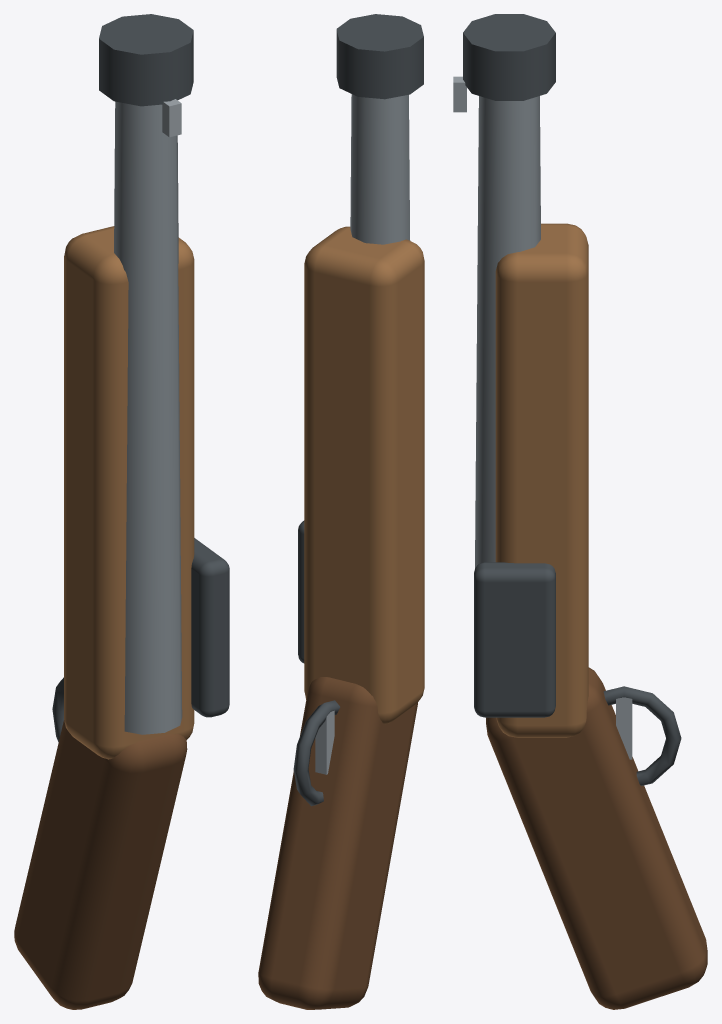
Rendered from pistol.glb.
3 renders of one model, left to right at view 1: azimuth 30°, elevation 25°; view 2: azimuth 150°, elevation 25°; view 3: azimuth 270°, elevation 25°, orthographic. The views are drawn at different scales.
Visible parts, largest first — view 1: pistol-forestock, pistol-barrel, pistol-stock, pistol-muzzle-ring, pistol-lock, pistol-sight, pistol-trigger-guard; view 2: pistol-forestock, pistol-stock, pistol-barrel, pistol-muzzle-ring, pistol-trigger-guard, pistol-lock, pistol-trigger; view 3: pistol-forestock, pistol-stock, pistol-barrel, pistol-lock, pistol-muzzle-ring, pistol-trigger-guard, pistol-trigger.
Boxes of the visible parts, left/top/right/bottom form: pistol-forestock: left=64, top=226, right=194, bottom=759; pistol-barrel: left=114, top=101, right=182, bottom=734; pistol-stock: left=14, top=720, right=187, bottom=1009; pistol-muzzle-ring: left=99, top=14, right=193, bottom=106; pistol-lock: left=191, top=538, right=229, bottom=717; pistol-sight: left=162, top=99, right=181, bottom=137; pistol-trigger-guard: left=52, top=677, right=63, bottom=741; pistol-forestock: left=304, top=226, right=424, bottom=724; pistol-stock: left=258, top=677, right=417, bottom=1009; pistol-barrel: left=350, top=94, right=410, bottom=244; pistol-muzzle-ring: left=336, top=14, right=423, bottom=99; pistol-trigger-guard: left=293, top=700, right=340, bottom=806; pistol-lock: left=298, top=520, right=304, bottom=663; pistol-trigger: left=315, top=710, right=334, bottom=774; pistol-forestock: left=495, top=223, right=588, bottom=737; pistol-stock: left=486, top=667, right=707, bottom=1009; pistol-barrel: left=475, top=96, right=540, bottom=568; pistol-lock: left=474, top=562, right=555, bottom=717; pistol-muzzle-ring: left=463, top=14, right=555, bottom=100; pistol-trigger-guard: left=603, top=686, right=681, bottom=785; pistol-trigger: left=616, top=697, right=632, bottom=759.
Size of the model in its own units: 0.0373 by 0.304 by 0.0724.
